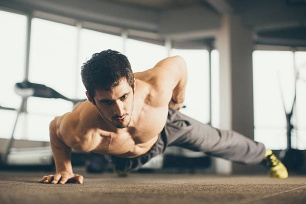male: (79, 51, 137, 134)
